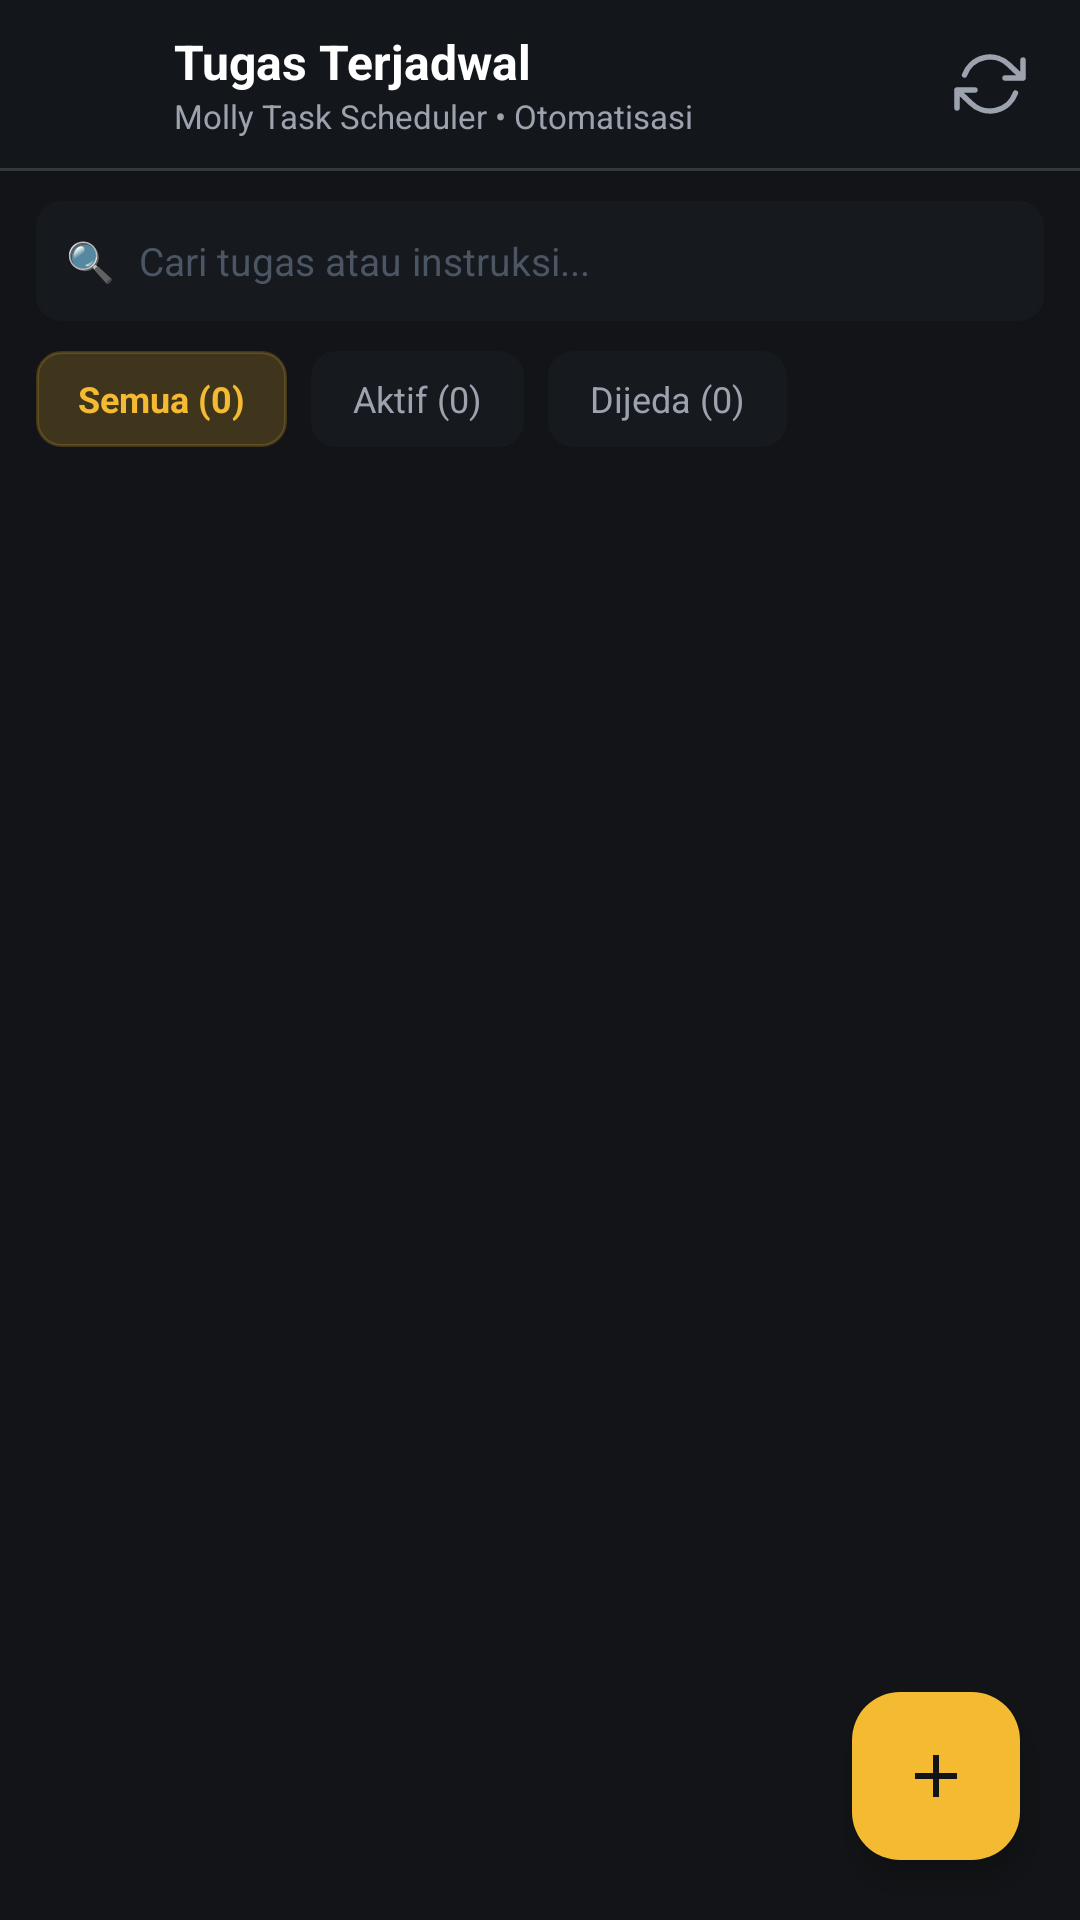

Icon click points for this 1080x1920 phone screenshot, format (x,y):
Buat Tugas Terjadwal Baru: (936,1776)
Refresh Tugas: (990,84)
